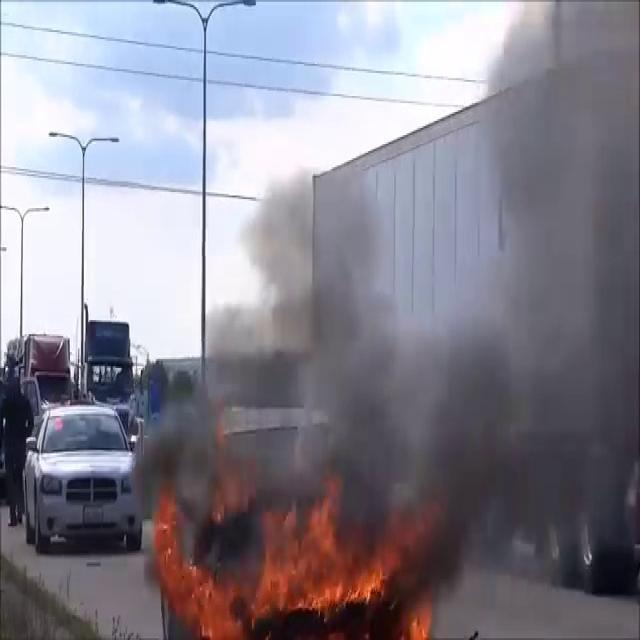Fire: (153, 487, 396, 633)
Smoke: (138, 18, 638, 580)
